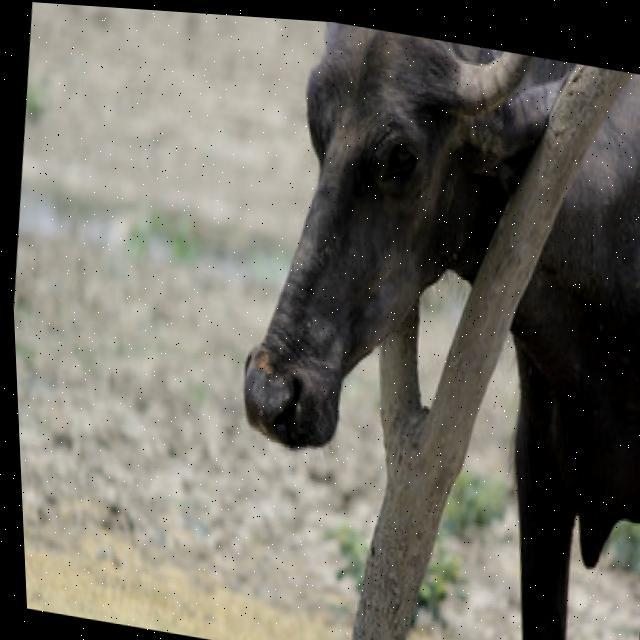Buffalo: (195, 13, 640, 640)
